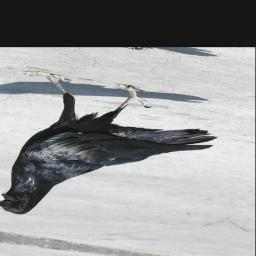Crow: (0, 65, 227, 239)
